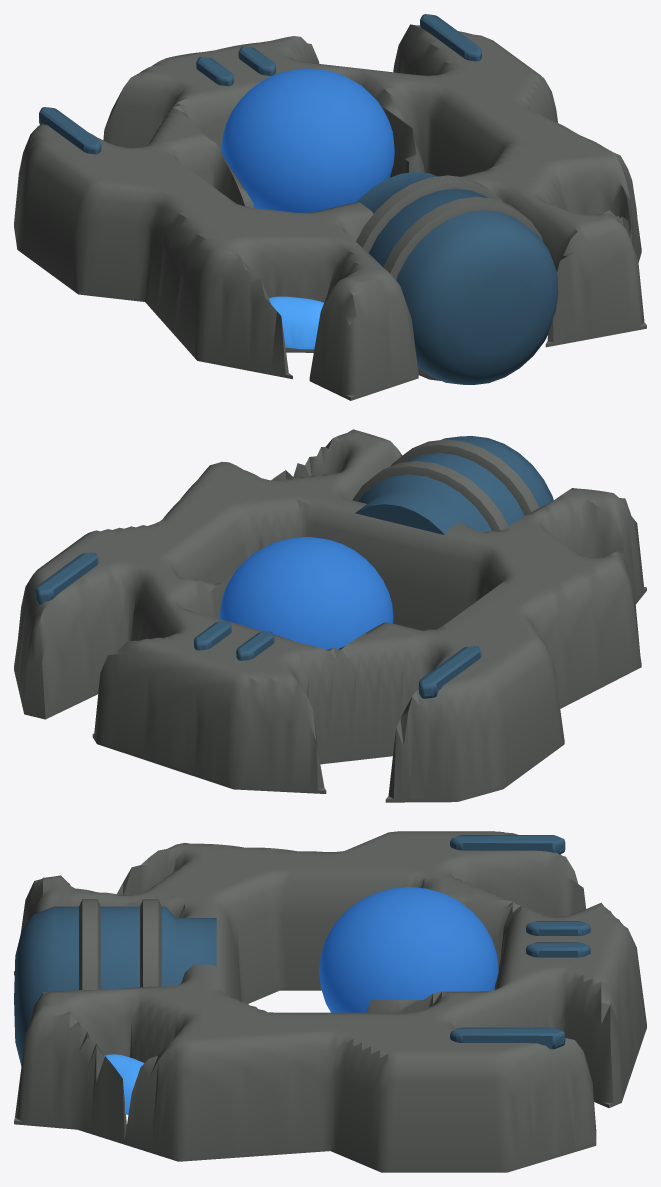
The model's file is ring_frame.glb.
3 views of the same model, one above another, from view 1: azimuth 30°, elevation 25°; view 2: azimuth 150°, elevation 25°; view 3: azimuth 270°, elevation 25° (orthographic). The views are drawn at different scales.
Parts seen in each view (by area): view 1: frame, canister, orb, band, band.001, light0, inlay2, inlay3, inlay0, inlay1; view 2: frame, orb, canister, band.001, band, inlay2, inlay3, inlay0, inlay1; view 3: frame, orb, canister, band, band.001, inlay3, inlay2, inlay1, inlay0, light1.
Boxes of the visible parts, box(x1,y1,x2,y2) form: frame: box(14, 24, 646, 400); canister: box(356, 172, 558, 384); orb: box(221, 68, 394, 212); band: box(383, 196, 543, 380); band.001: box(356, 175, 503, 252); light0: box(269, 296, 323, 349); inlay2: box(39, 107, 101, 154); inlay3: box(420, 14, 481, 61); inlay0: box(196, 56, 233, 86); inlay1: box(238, 46, 275, 75); frame: box(14, 429, 646, 802); orb: box(219, 536, 393, 649); canister: box(355, 436, 553, 534); band.001: box(352, 461, 508, 531); band: box(390, 439, 539, 515); inlay2: box(419, 646, 481, 698); inlay3: box(36, 552, 98, 604); inlay0: box(236, 631, 274, 660); inlay1: box(194, 621, 231, 650); frame: box(14, 831, 646, 1172); orb: box(319, 887, 498, 1012); canister: box(14, 906, 216, 1066); band: box(79, 899, 100, 989); band.001: box(140, 899, 161, 987); inlay3: box(450, 1027, 565, 1049); inlay2: box(450, 835, 565, 854); inlay1: box(526, 942, 590, 957); inlay0: box(526, 921, 590, 935); light1: box(104, 1054, 144, 1114).
Size of the model in its own units: 23 by 8.45 by 25.
